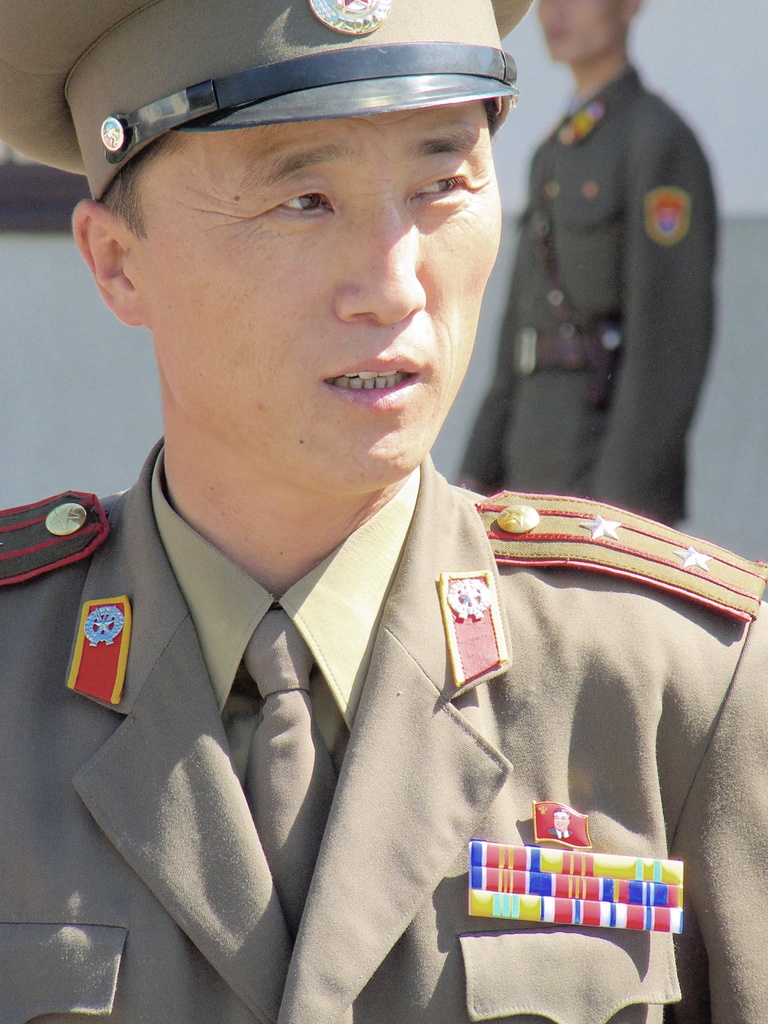face: (531, 0, 619, 62)
